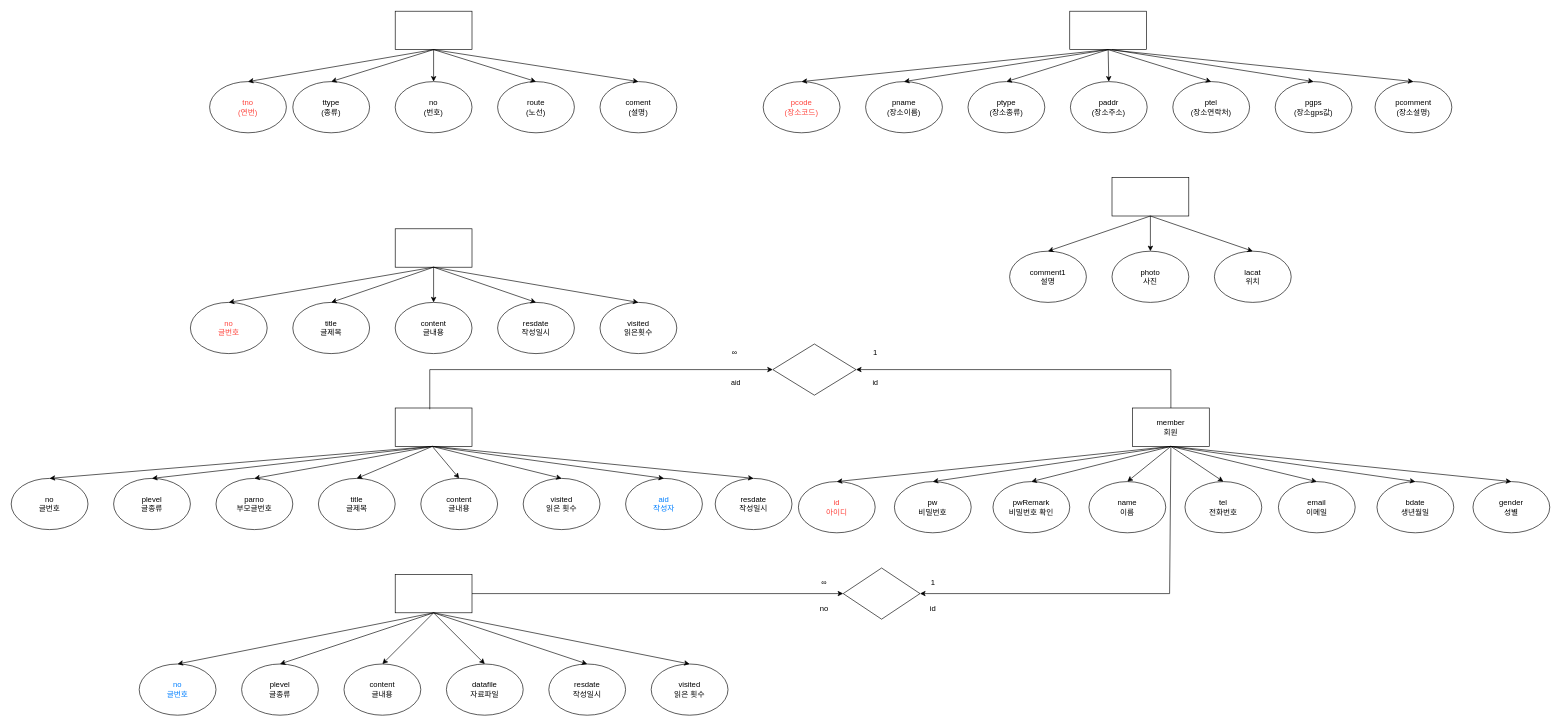
The diagram is 1561 pixels wide and 726 high, and some of its shapes have lost their labels. The centre of each missing label's shape, as x and y in pixels:
"data 자료실" belongs at point (433, 593).
"guide 안내사항" belongs at point (1108, 30).
"introduce 센터 소개" belongs at point (1150, 196).
"notice 사이트 소개" belongs at point (433, 247).
"qna (묻고 답하기)" belongs at point (433, 426).
"traffic 교통편" belongs at point (433, 30).
"글 등록" belongs at point (814, 369).
"자료 등록" belongs at point (881, 593).
